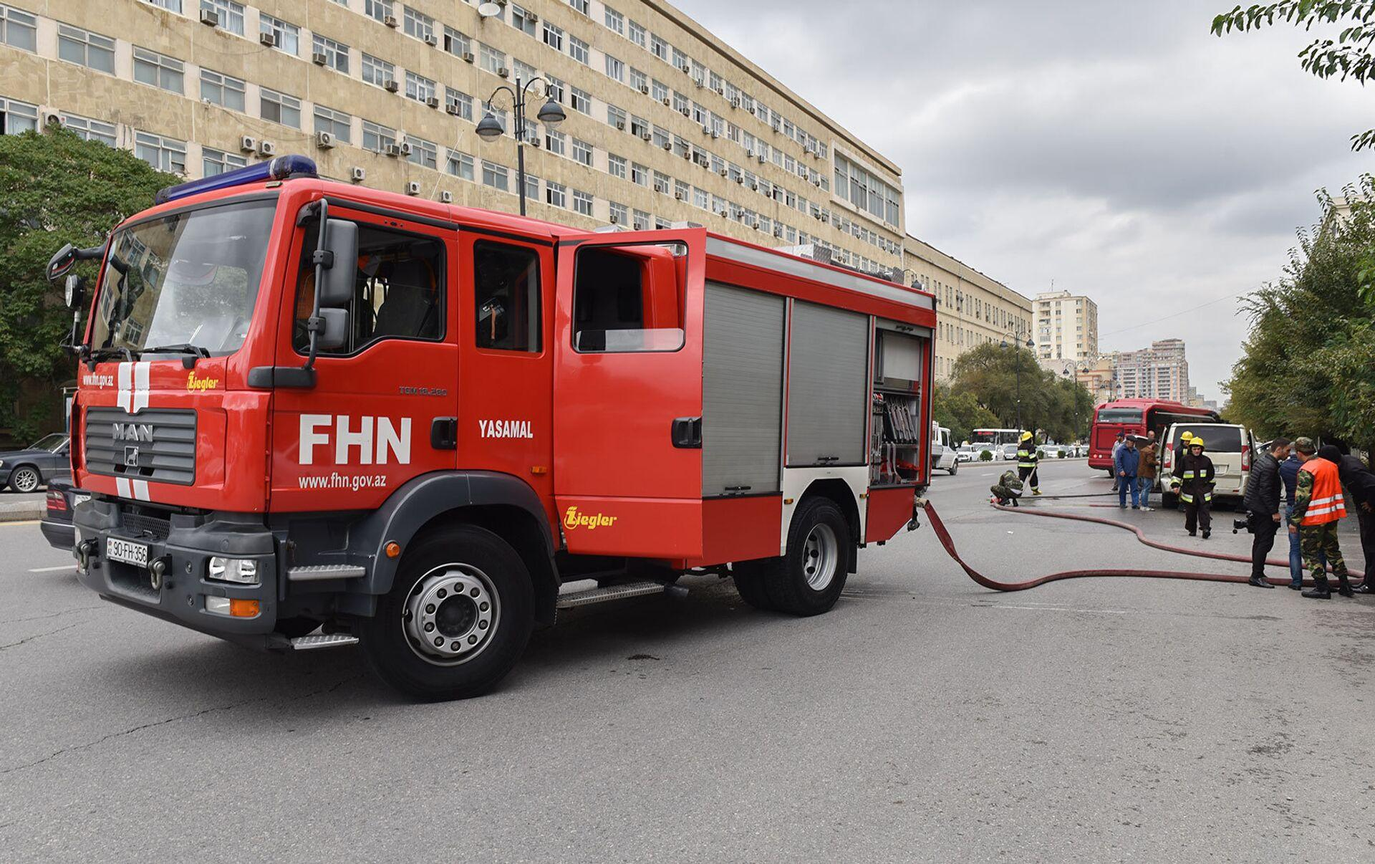Fire-engine: (67, 198, 938, 666)
